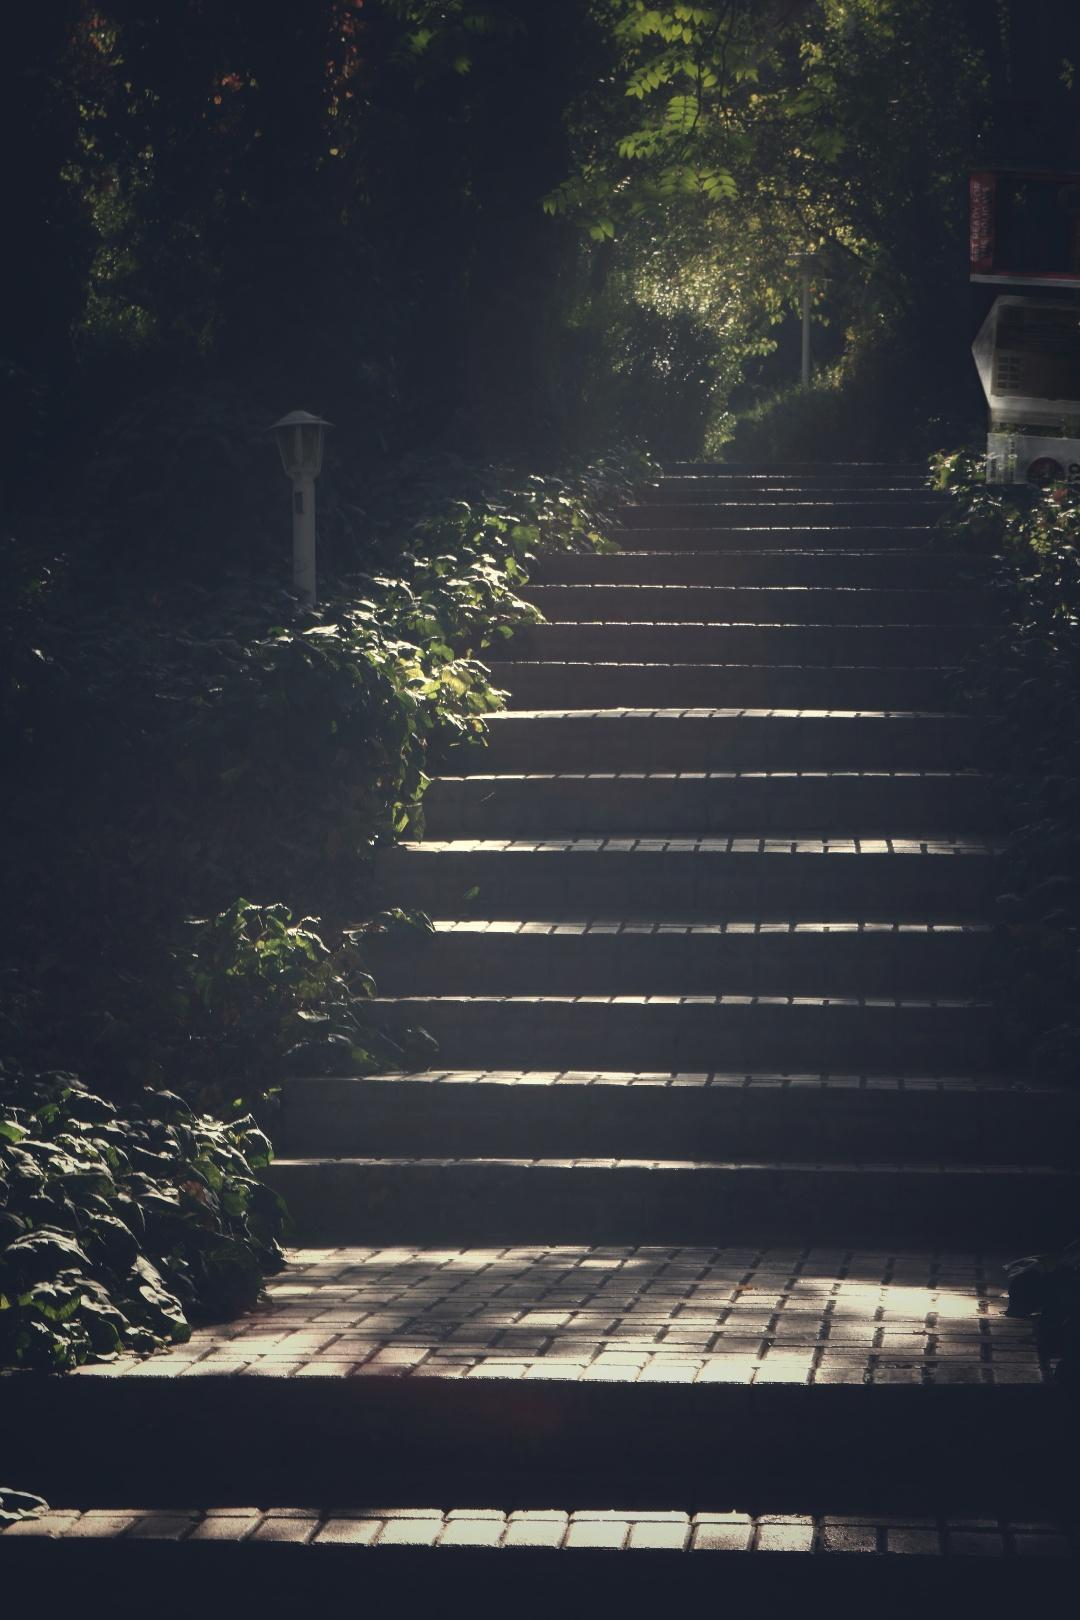paper: (970, 100, 1080, 485)
